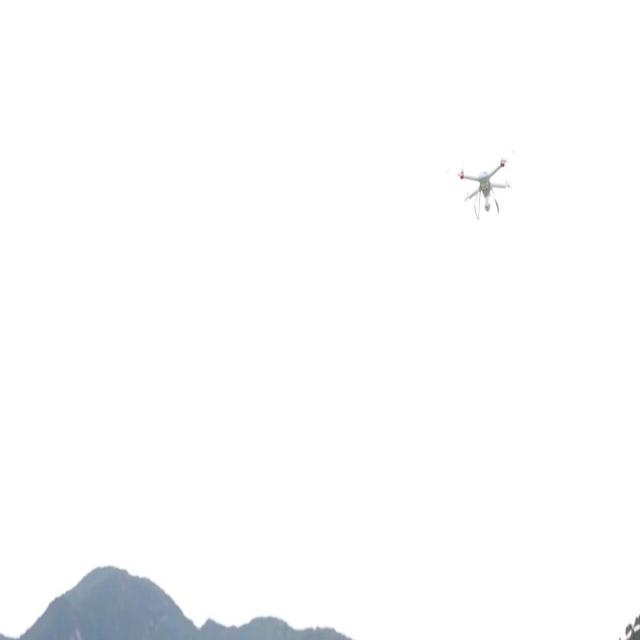drone: (456, 154, 514, 224)
